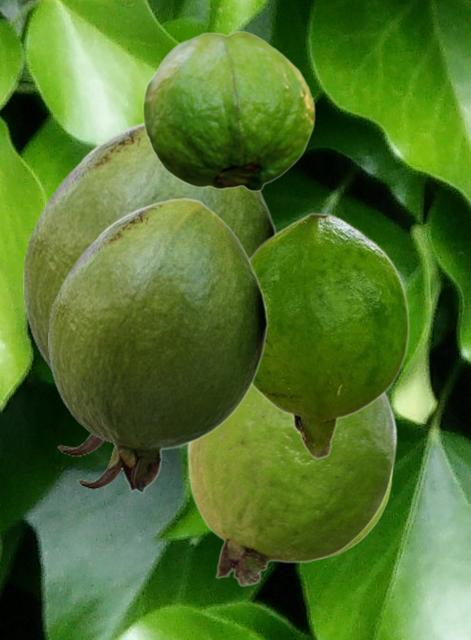guava: (23, 120, 277, 459), (48, 198, 267, 492), (187, 388, 396, 586), (249, 212, 409, 459), (142, 30, 314, 191)
